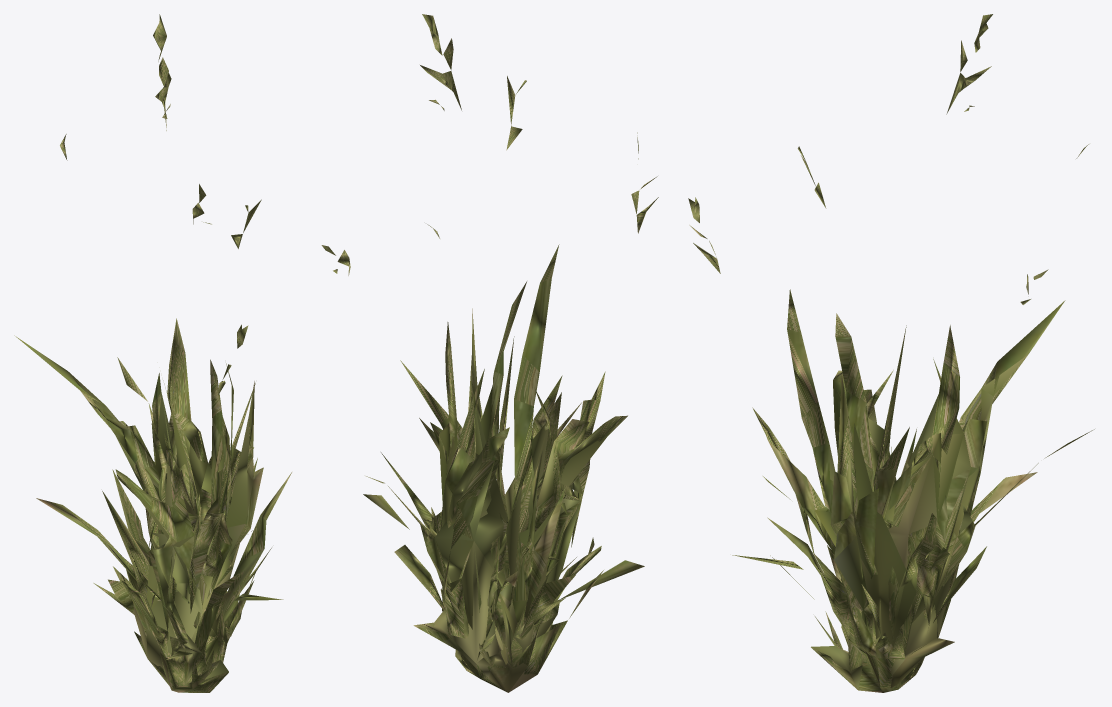
File: hierba_larga.glb
3 renders of one model, left to right at view 1: azimuth 30°, elevation 25°; view 2: azimuth 150°, elevation 25°; view 3: azimuth 270°, elevation 25°, orthographic. The views are drawn at different scales.
Parts seen in each view (by area): view 1: cerca, medio, lejos; view 2: cerca, medio, lejos; view 3: cerca, medio, lejos.
Boxes of the visible parts, box(x1,y1,x2,y2) form: cerca: box(14, 14, 291, 692); medio: box(69, 372, 263, 690); lejos: box(116, 396, 239, 680); cerca: box(321, 14, 658, 692); medio: box(432, 354, 607, 692); lejos: box(435, 385, 580, 664); cerca: box(688, 14, 1094, 692); medio: box(811, 355, 1027, 689); lejos: box(840, 394, 973, 683).
Size of the model in its own units: 0.2572 by 0.8367 by 0.4507.
2 materials, 1 textured.
